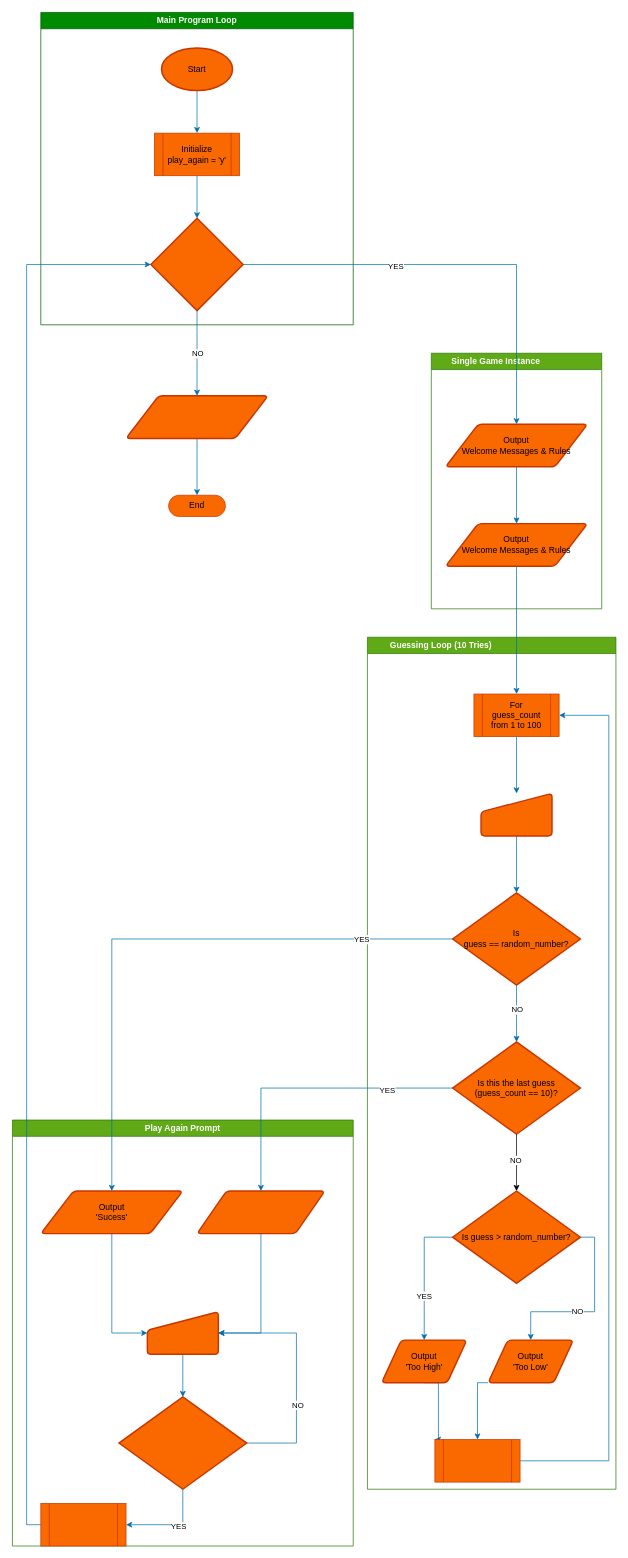
Some shapes in this 628 by 1558 pixel diagram are drawn without their labels. Here are the shapes that lost their labels. From the top down, the centre of each, then its label:
[197,264]: Is play_again.lower() == 'y'
[196,417]: Print "Thank you for playing!"
[516,814]: Get Valid User Guess
[260,1212]: Output 'You ran out of tries!'
[182,1333]: Ask 'Play Again?'
[182,1443]: Is input valid ('y' or 'n')?
[477,1460]: Next guess
[83,1524]: Update play_again variable
